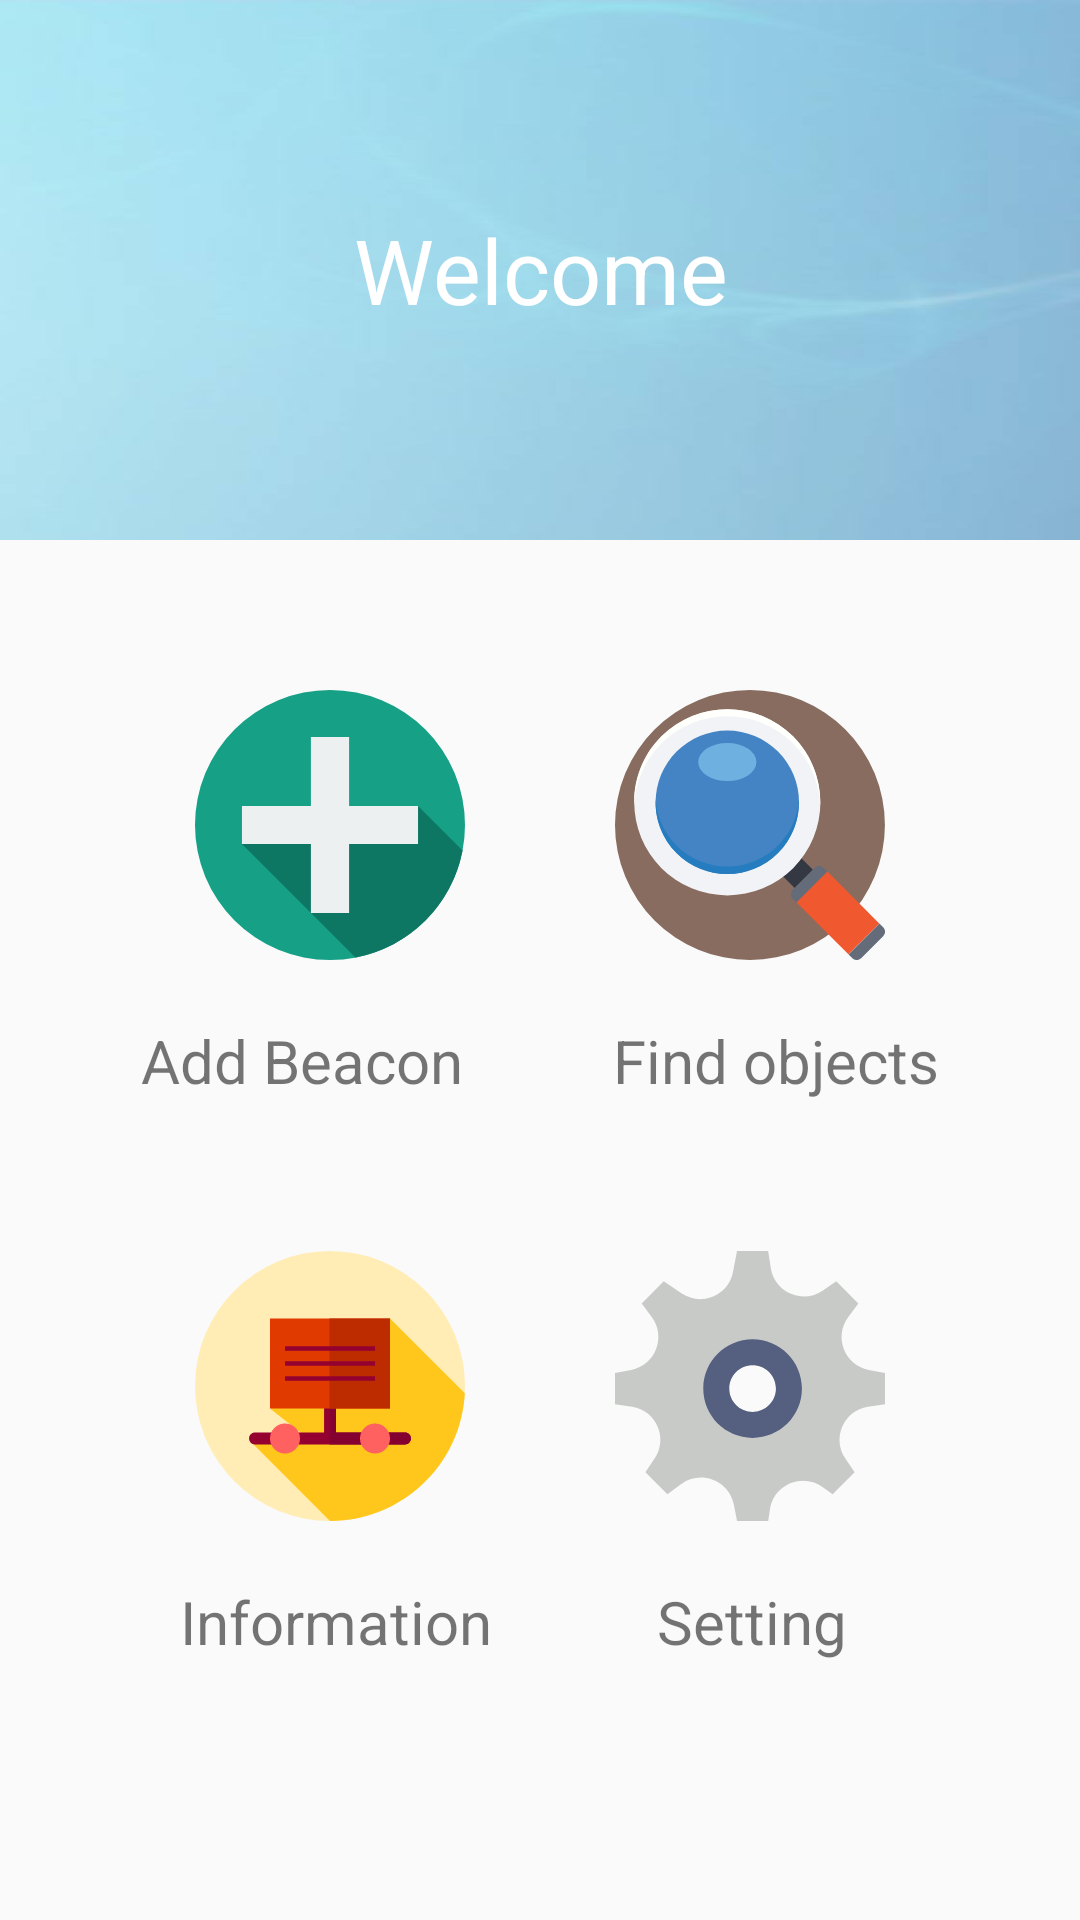

Locate icon controls on the screen. Image size 1080*1920, boxes as box=[x1, y1, x2, y2].
category add: box=[195, 690, 465, 960]
category search: box=[615, 690, 885, 960]
